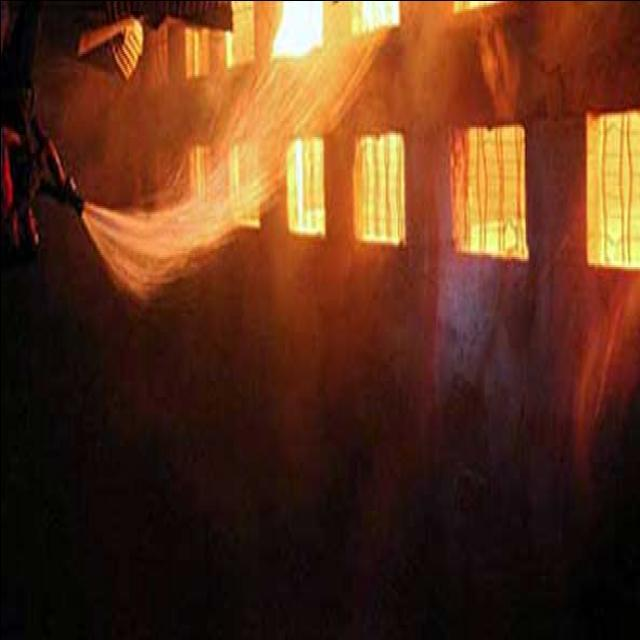Fire: (178, 2, 640, 262)
